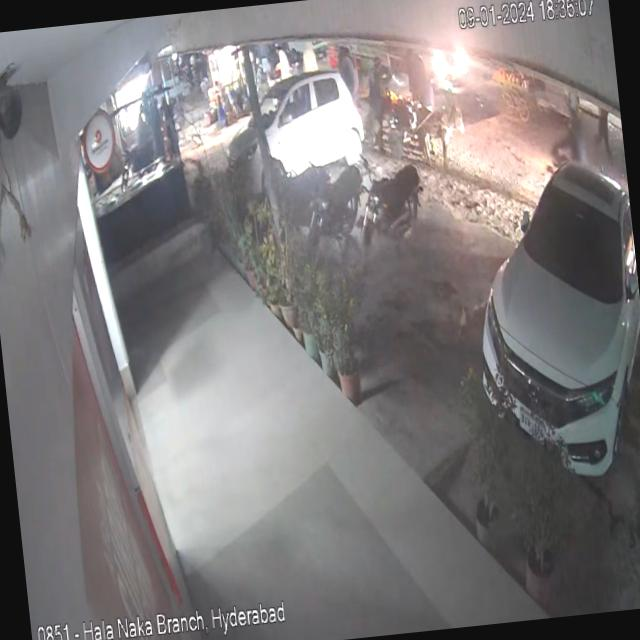Car: (458, 135, 640, 505), (218, 66, 385, 205)
Motorcycle: (350, 143, 436, 280), (302, 160, 369, 268)
